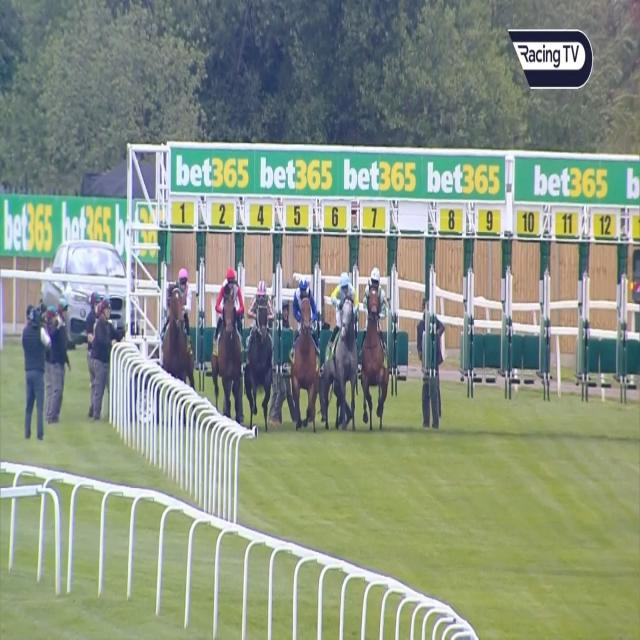horses-racing: (330, 273, 356, 421), (362, 266, 386, 418), (292, 275, 316, 425), (165, 270, 192, 398), (250, 279, 272, 430), (218, 264, 239, 422)
